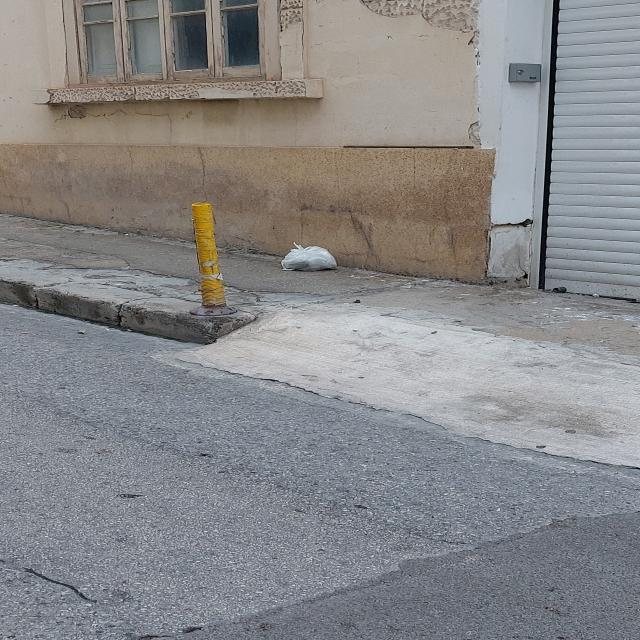Organic Waste -White Bag-: (282, 242, 339, 273)
